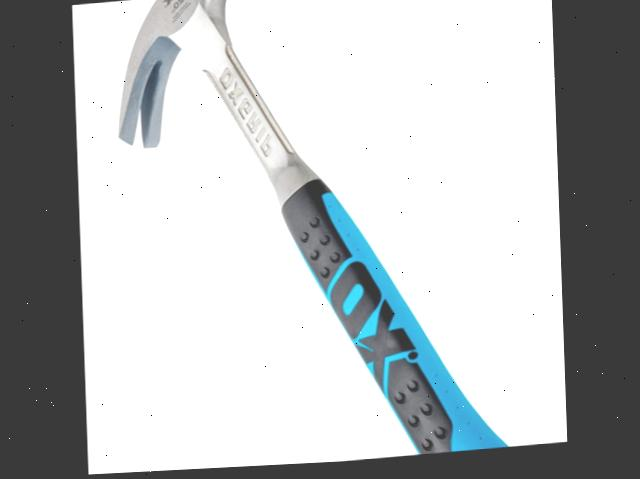hammer: (106, 0, 542, 475)
